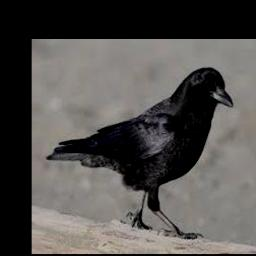Crow: (45, 67, 233, 239)
